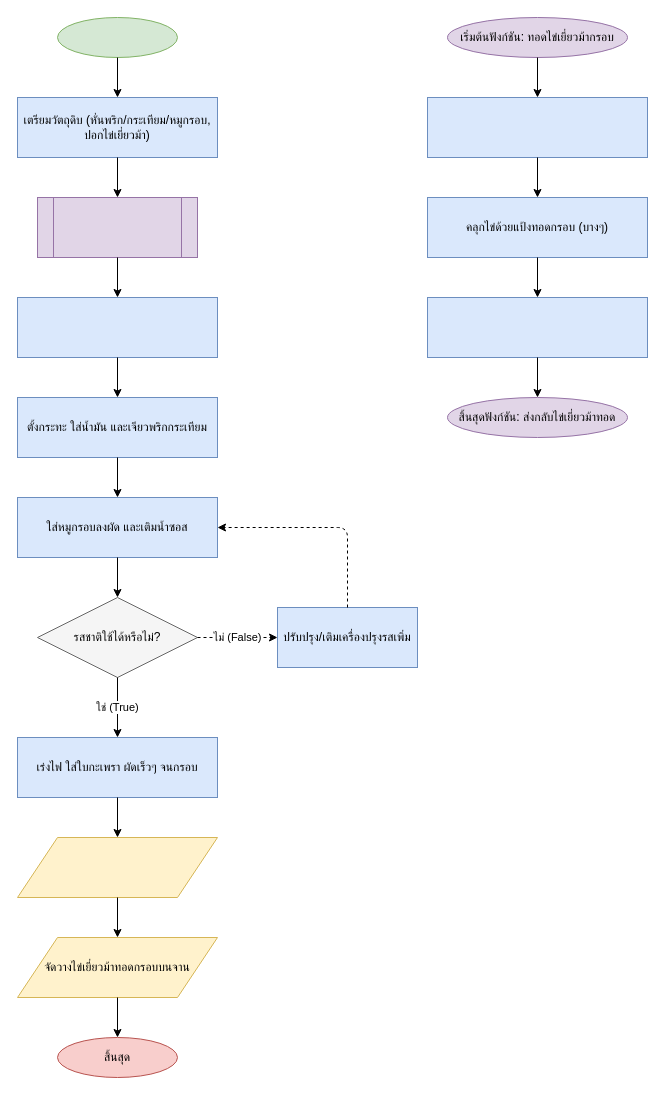
The diagram is 665 pixels wide and 1095 high, and some of its shapes have lost their labels. Here are the shapes that lost their labels. From the top down, the centre of each, then its label:
At point 117,37: "เริ่มต้น".
At point 537,127: "ปอกเปลือกไข่เยี่ยวม้า หั่นครึ่ง หรือตามชอบ".
At point 117,227: "ฟังก์ชัน: ทอดไข่เยี่ยวม้ากรอบ".
At point 117,327: "ผสมน้ำซอสหลัก (น้ำปลา, ซีอิ๊ว, น้ำตาล, เต้าเจี้ยว)".
At point 537,327: "ทอดไข่ในน้ำมันร้อนจนแป้งเหลืองกรอบ".
At point 117,867: "ตักข้าวผัดกระเพราใส่จานข้าวสวย".
